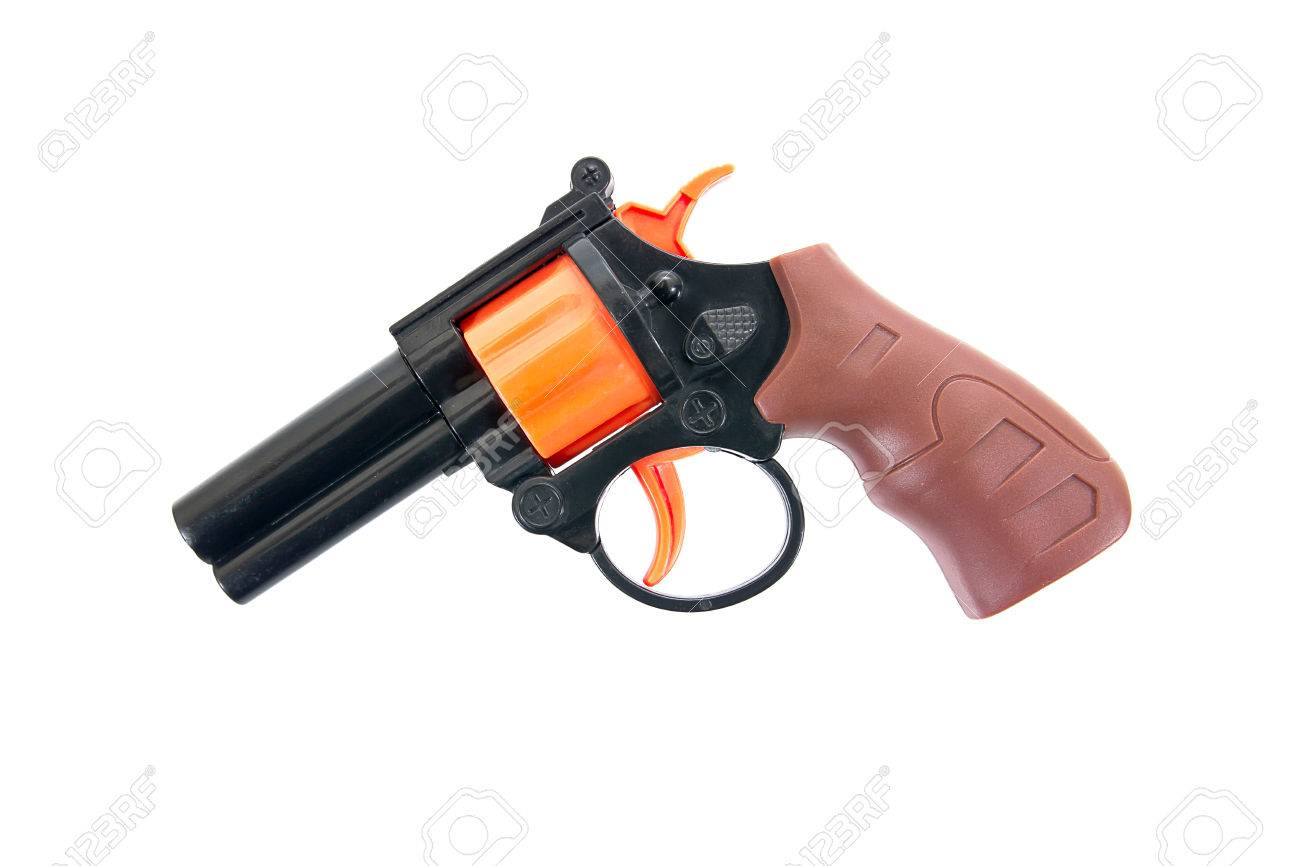Arma Falsa: (168, 153, 1137, 635)
